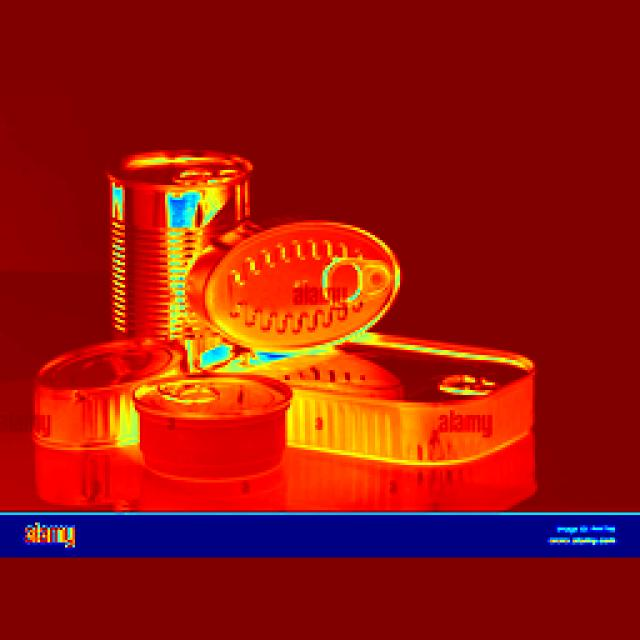Aluminium Food Cans: (103, 145, 270, 342), (188, 214, 406, 358), (34, 345, 180, 510), (134, 380, 288, 514)
